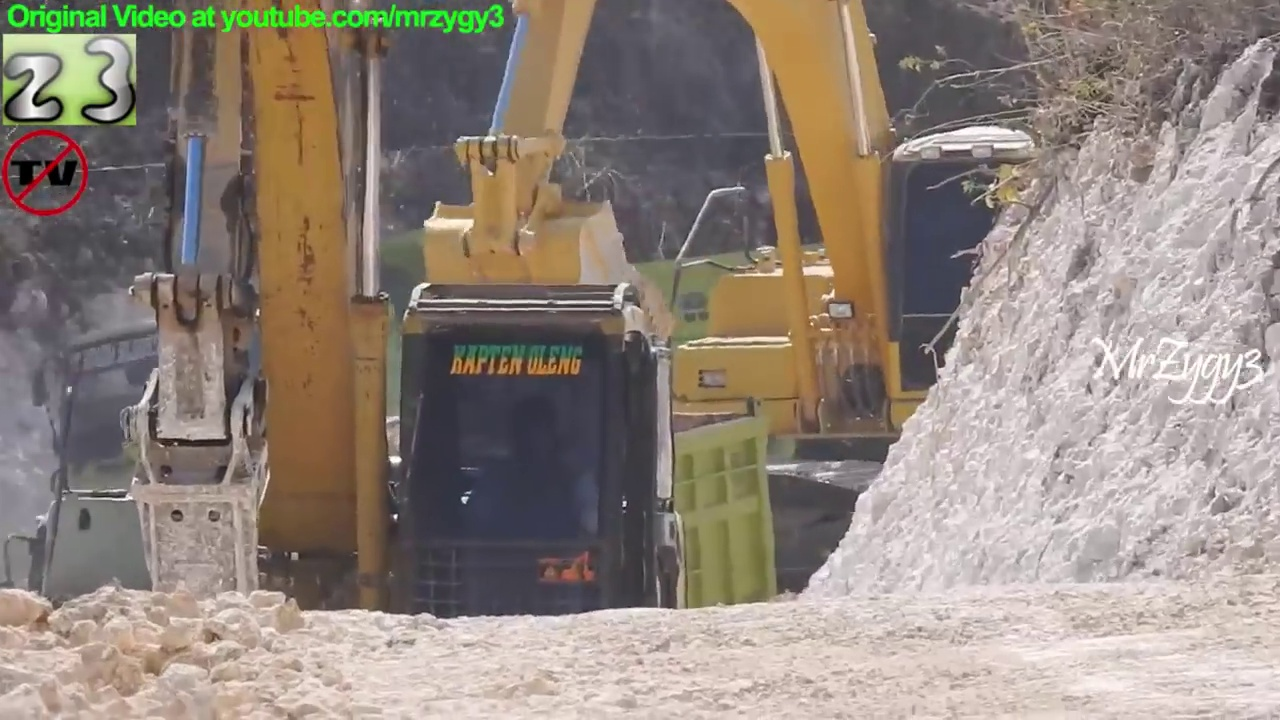excavator: (404, 1, 1115, 700), (58, 1, 710, 719)
truck: (261, 321, 791, 690), (330, 214, 867, 448)
